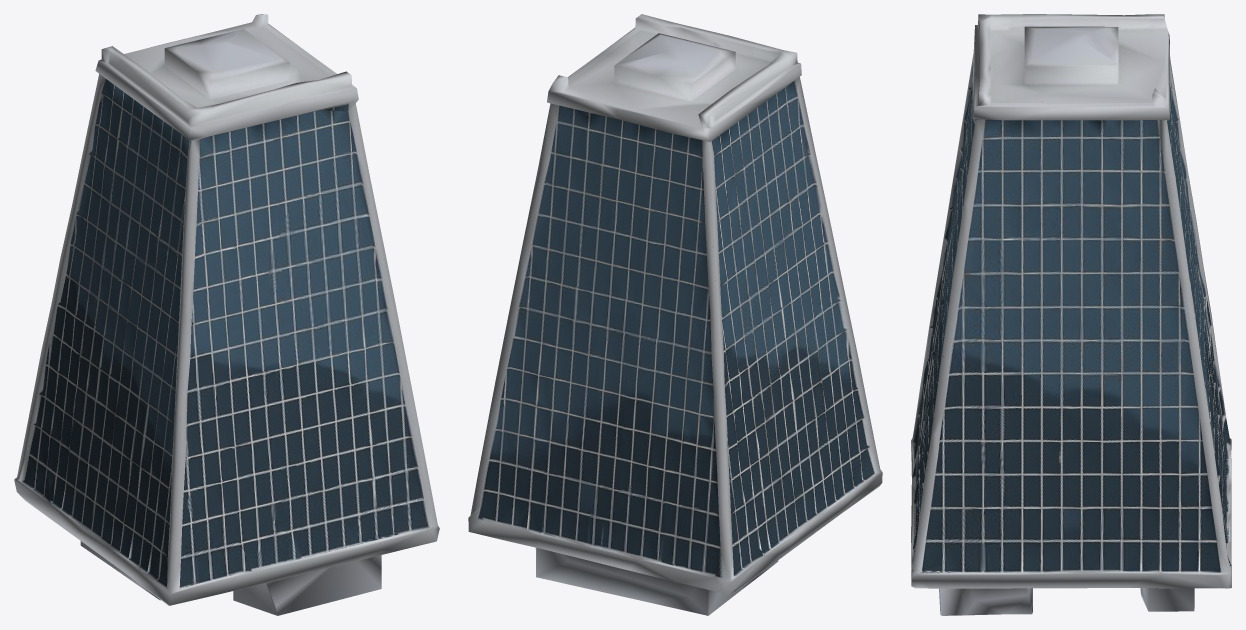
The model's file is CenarioFiesp.glb.
3 views of the same model, side by side, from view 1: azimuth 30°, elevation 25°; view 2: azimuth 150°, elevation 25°; view 3: azimuth 270°, elevation 25° (orthographic). The views are drawn at different scales.
Parts seen in each view (by area): view 1: tripo_node_2e4d4caa-edb7-4e1b-a422-2193102bb9ba; view 2: tripo_node_2e4d4caa-edb7-4e1b-a422-2193102bb9ba; view 3: tripo_node_2e4d4caa-edb7-4e1b-a422-2193102bb9ba.
Boxes of the visible parts, x1,y1,x2,y2 form: tripo_node_2e4d4caa-edb7-4e1b-a422-2193102bb9ba: (14, 14, 439, 615); tripo_node_2e4d4caa-edb7-4e1b-a422-2193102bb9ba: (468, 14, 882, 615); tripo_node_2e4d4caa-edb7-4e1b-a422-2193102bb9ba: (911, 14, 1231, 615).
Size of the model in its own units: 1.36 by 2.5 by 1.36.
1 material, 1 textured.
